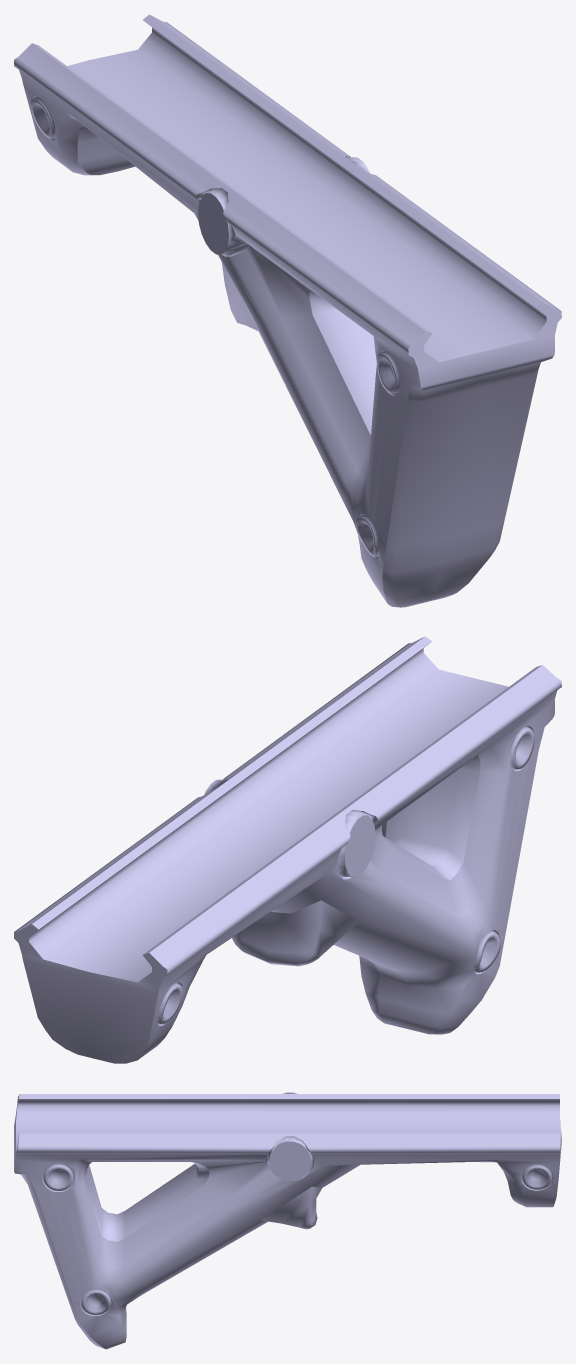
The model's file is AFG_MK18.fbx.
The picture shows the model from 3 angles, top to bottom: view 1: azimuth 30°, elevation 25°; view 2: azimuth 150°, elevation 25°; view 3: azimuth 270°, elevation 25°; orthographic projection. The views are drawn at different scales.
Parts seen in each view (by area): view 1: Foregrip_MK18_AFG_LOD0; view 2: Foregrip_MK18_AFG_LOD0; view 3: Foregrip_MK18_AFG_LOD0.
Part boxes in pixels (<box>): Foregrip_MK18_AFG_LOD0: <box>14,14,561,607</box>; Foregrip_MK18_AFG_LOD0: <box>14,636,561,1063</box>; Foregrip_MK18_AFG_LOD0: <box>14,1092,561,1349</box>.
Size of what is drawn, in the model's own units: 2.69 by 5.57 by 12.14.
